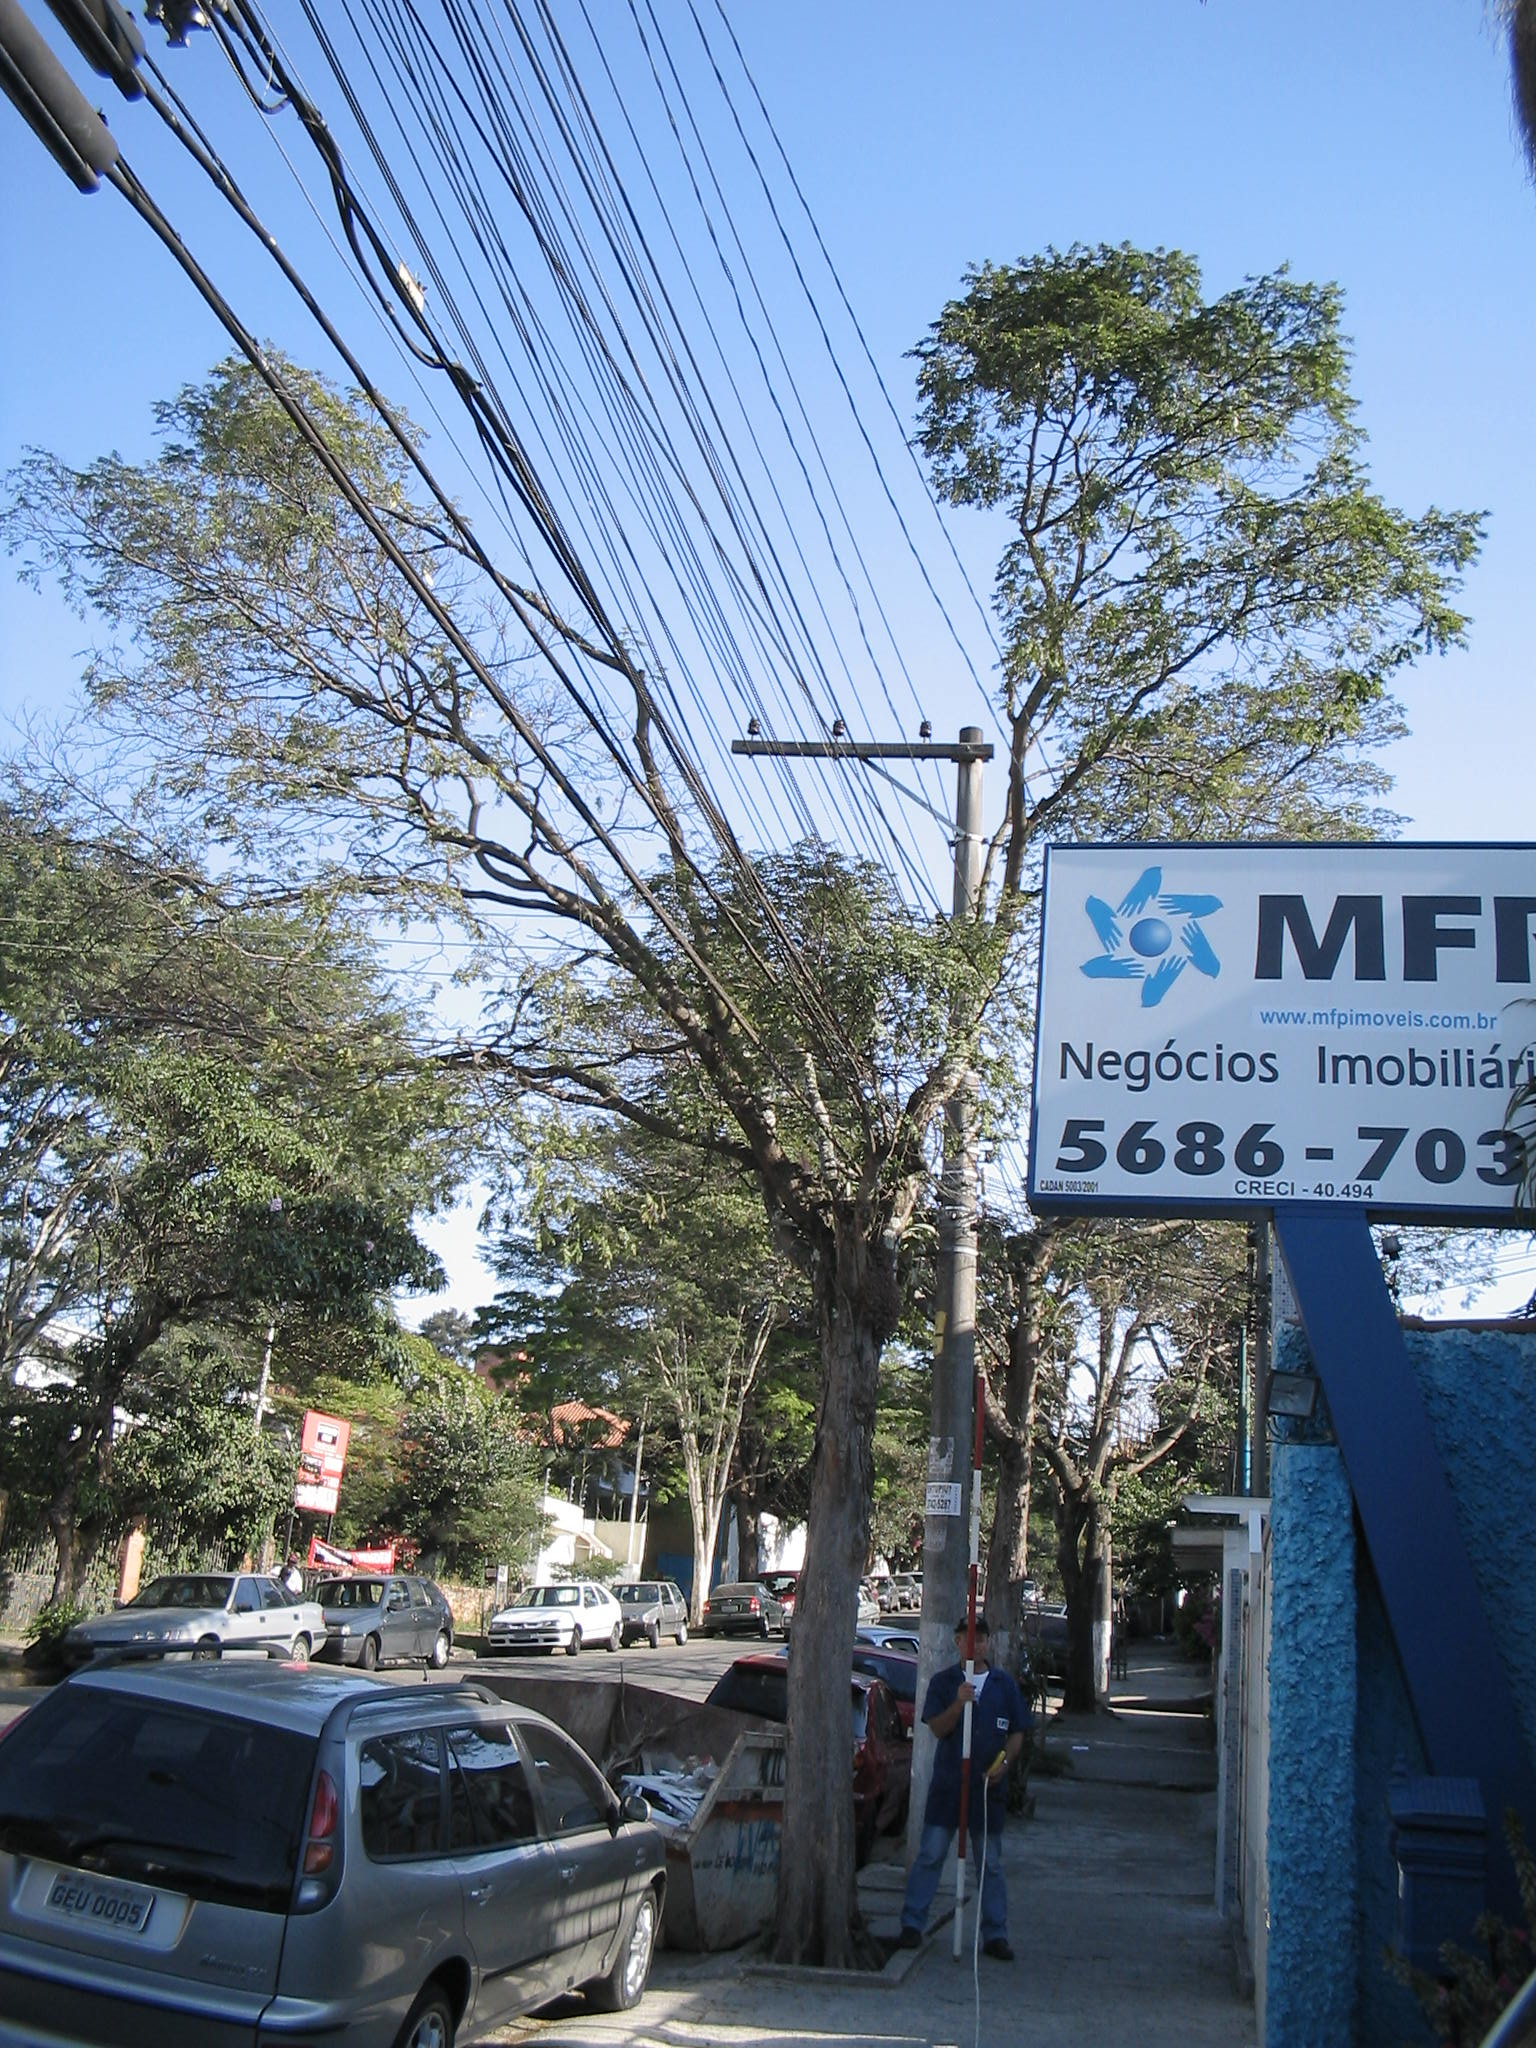crown: (6, 247, 1489, 1227)
stem: (763, 1309, 908, 1964)
stick: (933, 1377, 999, 1958)
tree: (6, 244, 1489, 1967)
